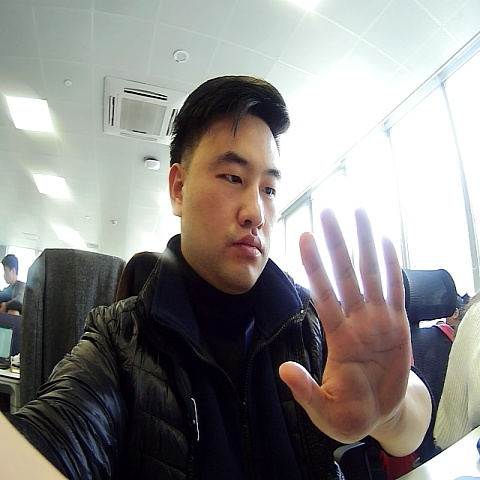palm: (278, 204, 415, 449)
